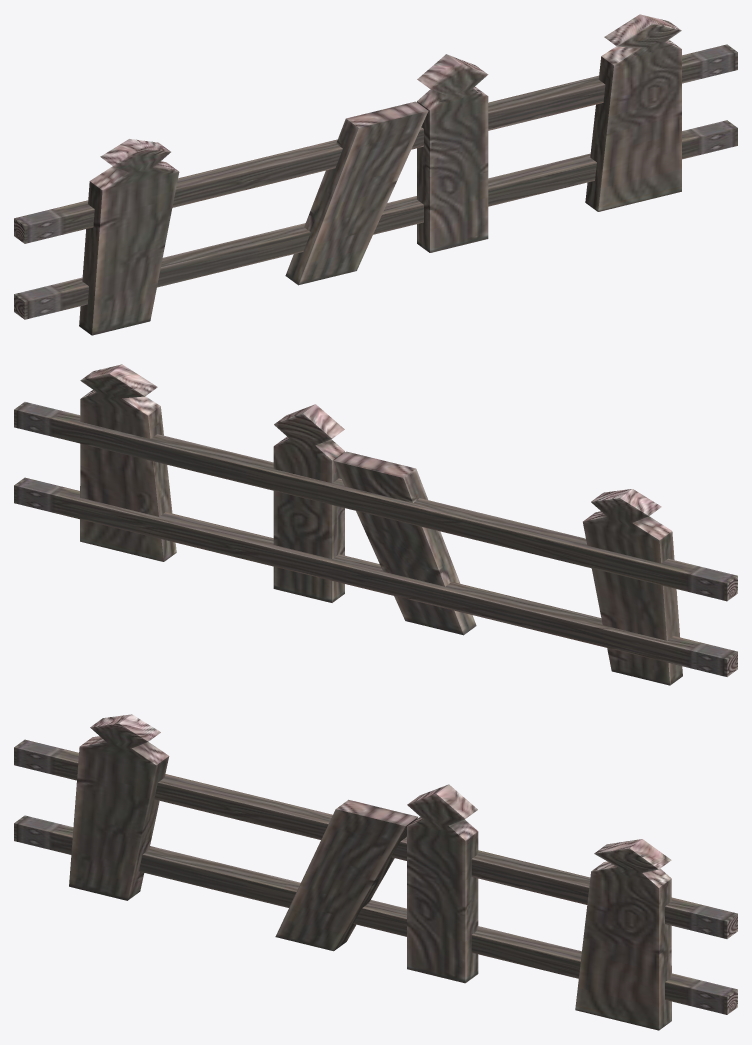
The model's file is fence.fbx.
3 views of the same model, one above another, from view 1: azimuth 30°, elevation 25°; view 2: azimuth 150°, elevation 25°; view 3: azimuth 330°, elevation 25° (orthographic).
Visible parts, largest first — view 1: mobile_rock_06.016; view 2: mobile_rock_06.016; view 3: mobile_rock_06.016.
Boxes of the visible parts, x1=… form: mobile_rock_06.016: x1=14, y1=14, x2=737, y2=335; mobile_rock_06.016: x1=14, y1=364, x2=737, y2=685; mobile_rock_06.016: x1=14, y1=714, x2=737, y2=1030.
Size of the model in its own units: 107 by 26.08 by 4.37.
